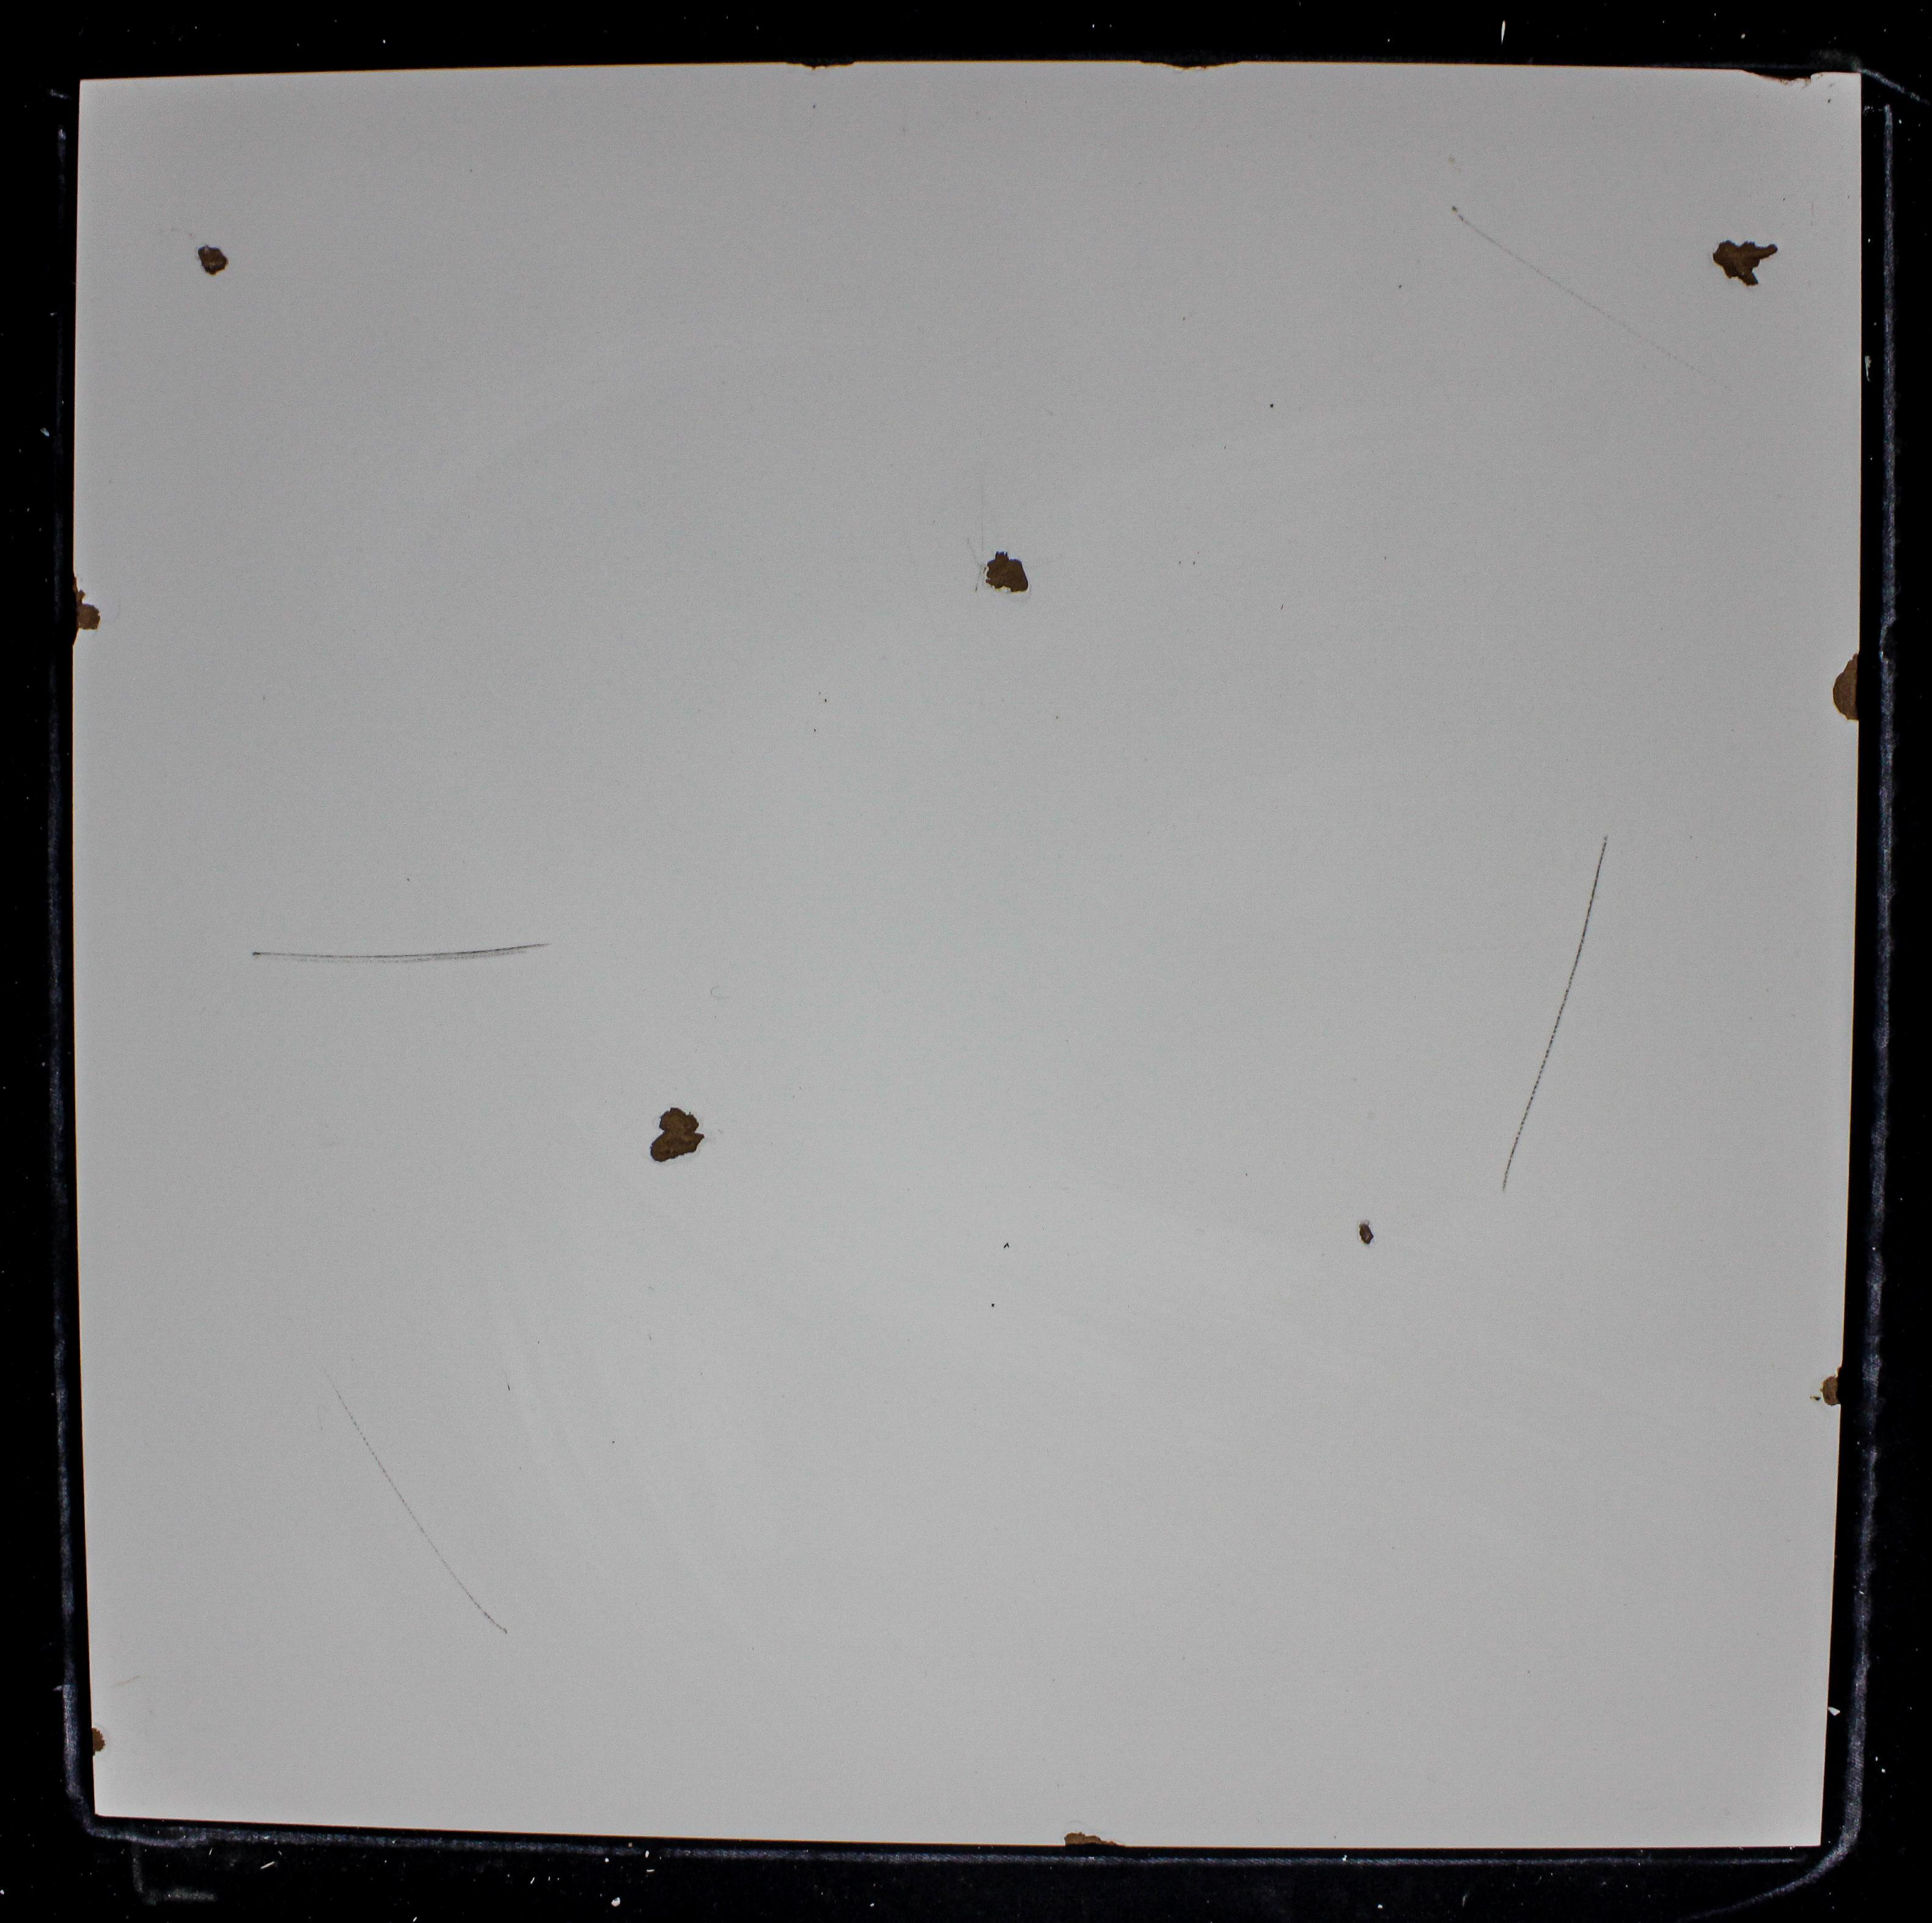edge-chipping: (1830, 652, 1863, 722), (74, 572, 102, 645), (1141, 58, 1245, 72), (1742, 69, 1821, 86), (1819, 1363, 1846, 1407), (1066, 1831, 1124, 1847), (90, 1726, 107, 1757)
hole: (1712, 238, 1779, 289), (650, 1108, 704, 1164), (984, 549, 1030, 595), (197, 241, 229, 276), (1358, 1220, 1374, 1247)
line: (338, 1405, 523, 1636), (1501, 831, 1613, 1194), (252, 939, 553, 970)
